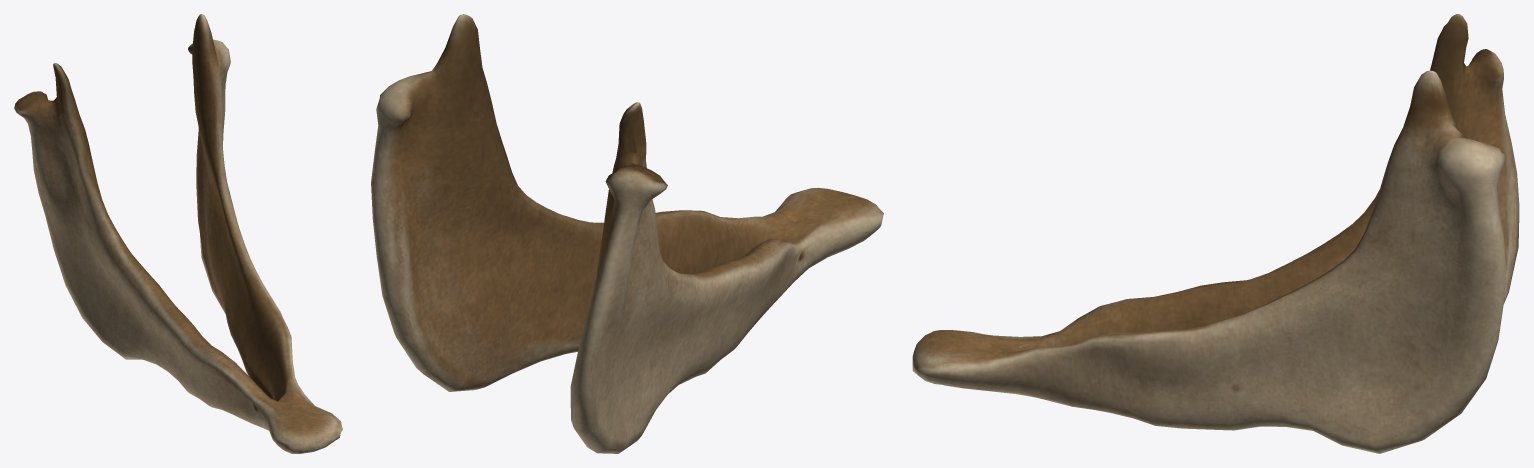
File: Mandible.glb
3 renders of one model, left to right at view 1: azimuth 30°, elevation 25°; view 2: azimuth 150°, elevation 25°; view 3: azimuth 270°, elevation 25°, orthographic. The views are drawn at different scales.
Parts seen in each view (by area): view 1: Mandible; view 2: Mandible; view 3: Mandible.
Boxes of the visible parts, left/top/right/bottom form: Mandible: left=14, top=14, right=342, bottom=453; Mandible: left=371, top=14, right=883, bottom=453; Mandible: left=912, top=14, right=1519, bottom=453.
Size of the model in its own units: 0.2106 by 0.2908 by 0.4077.
1 material, 1 textured.
